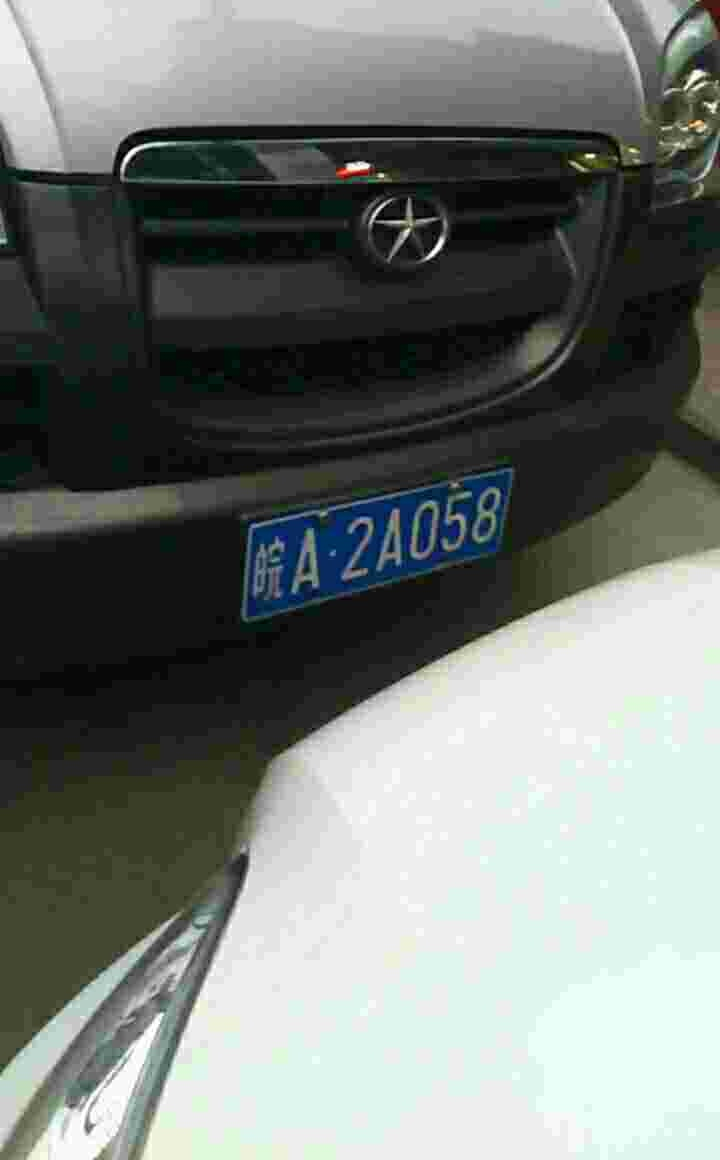car: (250, 492, 501, 562)
